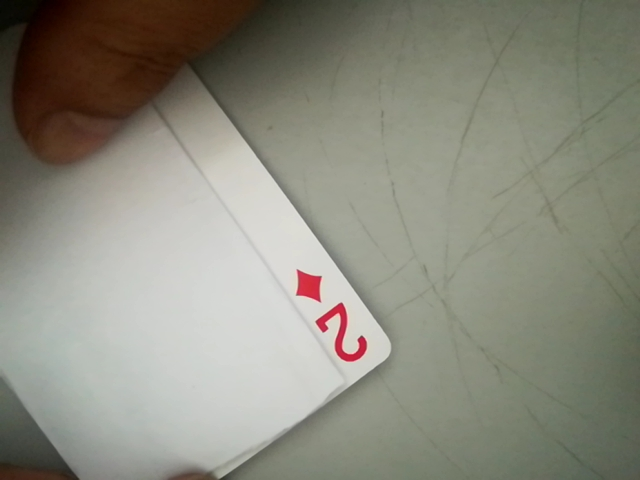fk 2: (289, 264, 382, 376)
